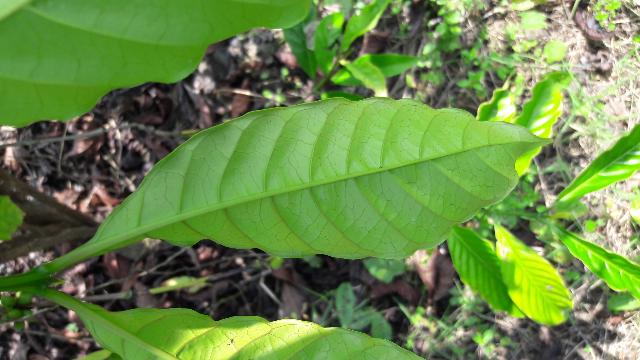healthy: (91, 98, 543, 258)
